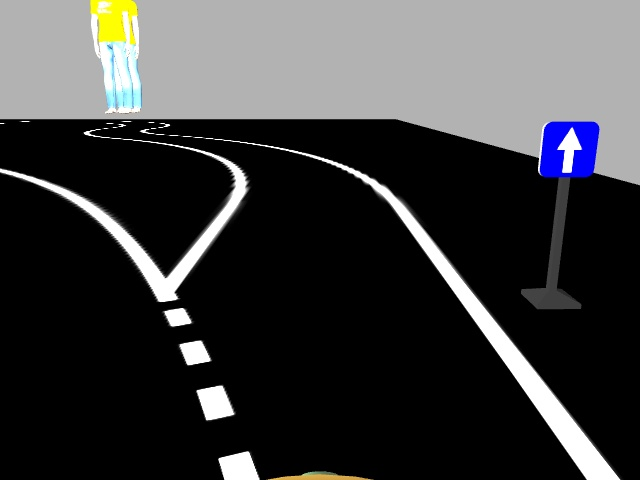OneWay: (537, 118, 596, 179)
